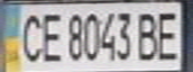0: (81, 8, 103, 62)
3: (115, 8, 136, 62)
4: (100, 8, 121, 62)
8: (63, 9, 84, 62)
B: (133, 7, 163, 62)
C: (15, 8, 45, 64)
E: (151, 7, 184, 62), (36, 8, 66, 64)
